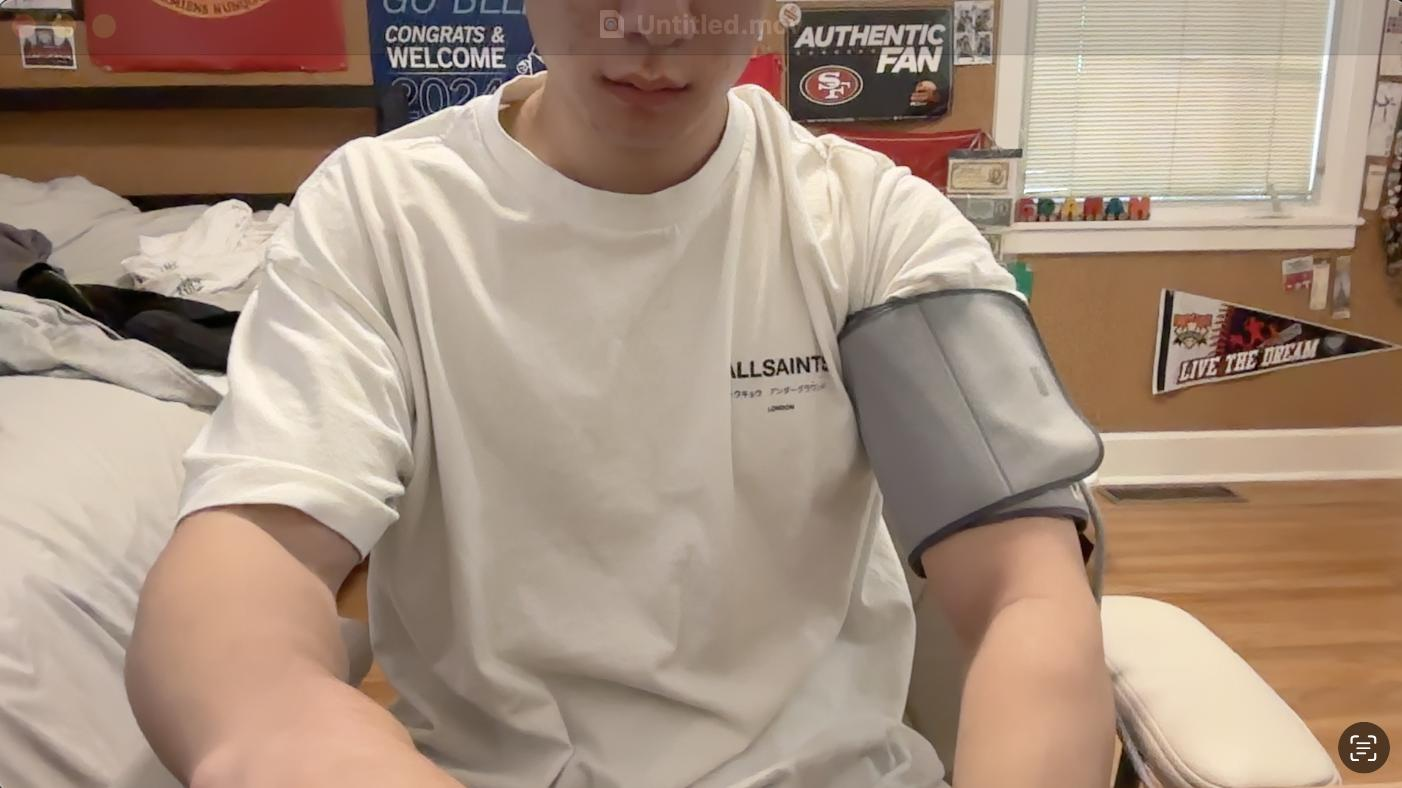cuff: (836, 285, 1101, 576)
